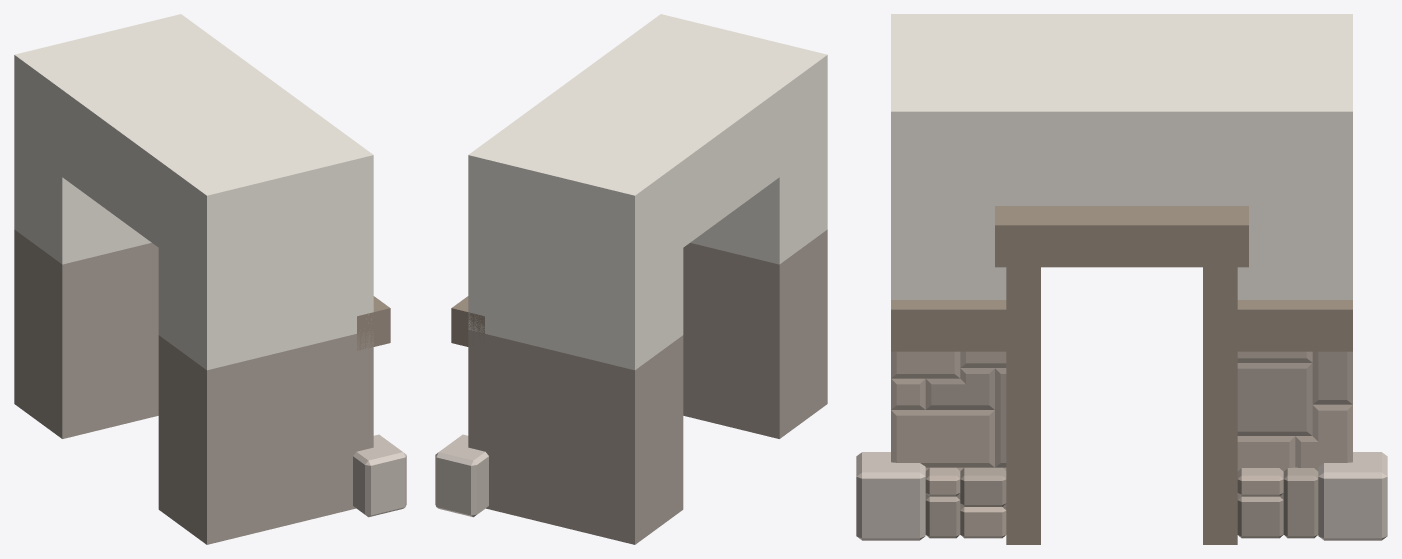
The model's file is EntradaPiedra2.glb.
3 renders of one model, left to right at view 1: azimuth 30°, elevation 25°; view 2: azimuth 150°, elevation 25°; view 3: azimuth 270°, elevation 25°, orthographic. The views are drawn at different scales.
Parts seen in each view (by area): view 1: object9, object3, object10, object2, object4; view 2: object9, object10, object3, object7, object6; view 3: object9, object1, object10, object3, object4, object6, object8, object2, object7, object5.
Boxes of the visible parts, left/top/right/bottom form: object9: left=14, top=14, right=373, bottom=370; object3: left=158, top=330, right=373, bottom=544; object10: left=14, top=229, right=158, bottom=438; object2: left=353, top=434, right=406, bottom=517; object4: left=357, top=296, right=390, bottom=350; object9: left=468, top=14, right=827, bottom=370; object10: left=468, top=329, right=683, bottom=544; object3: left=683, top=229, right=827, bottom=438; object7: left=435, top=434, right=488, bottom=517; object6: left=451, top=296, right=484, bottom=347; object9: left=891, top=14, right=1352, bottom=299; object1: left=995, top=206, right=1248, bottom=544; object10: left=1237, top=351, right=1352, bottom=471; object3: left=891, top=351, right=1006, bottom=471; object4: left=891, top=300, right=1006, bottom=351; object6: left=1237, top=300, right=1352, bottom=351; object8: left=925, top=467, right=1006, bottom=538; object2: left=856, top=452, right=925, bottom=540; object7: left=1318, top=452, right=1387, bottom=540; object5: left=1237, top=467, right=1318, bottom=538.
Bounding box in the file's own units: 1.2 × 2 × 2.3.
